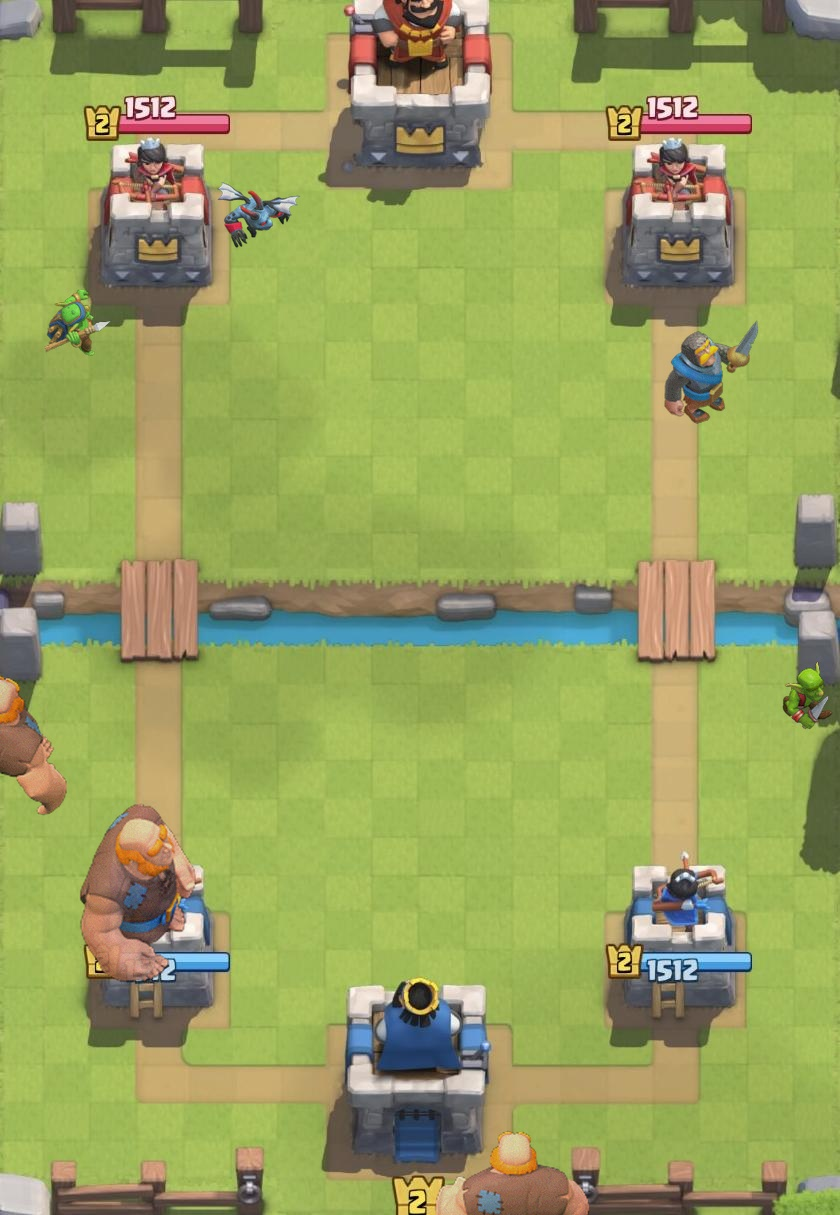giant_ally: (79, 803, 196, 983), (434, 1130, 590, 1215), (0, 675, 67, 816)
goblin_enemy: (782, 661, 833, 730)
knight_ally: (664, 320, 759, 424)
minion_enemy: (217, 182, 300, 248)
spoblin_ally: (44, 289, 111, 356)
